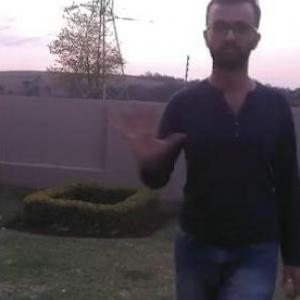follow_hand: (106, 96, 185, 166)
